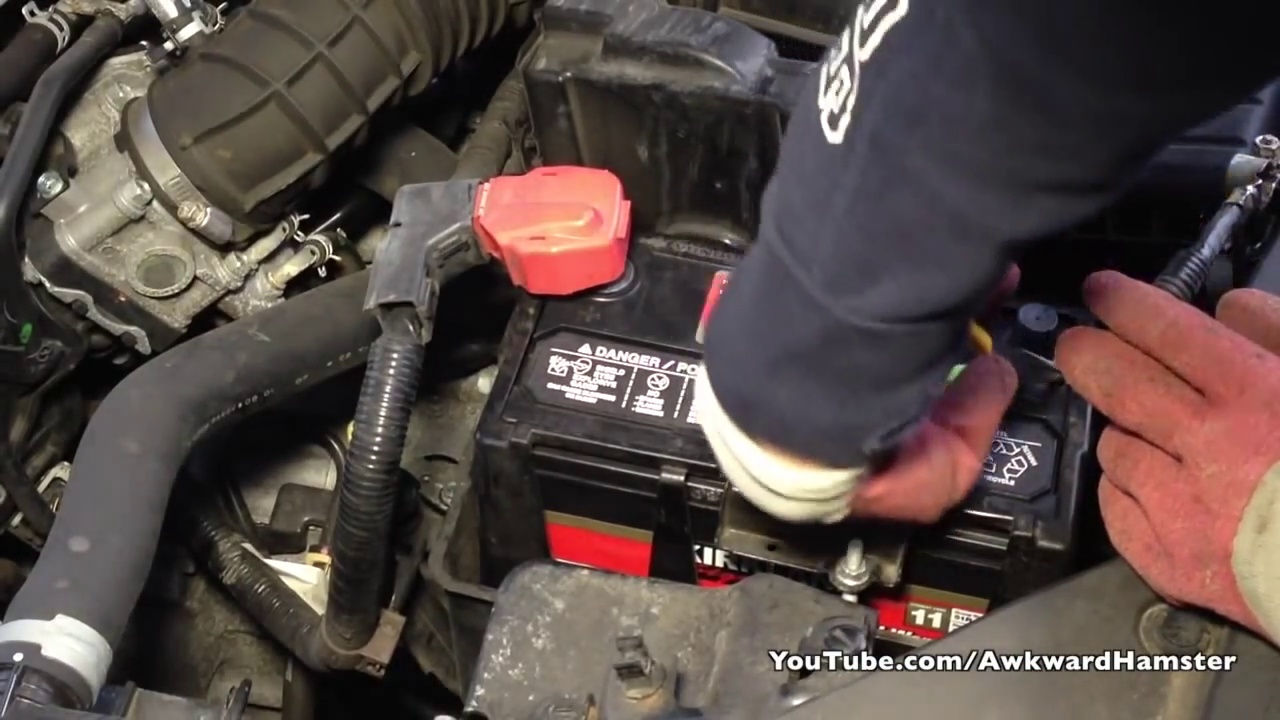battery: (464, 228, 1092, 548)
pos_connected: (448, 160, 643, 302)
